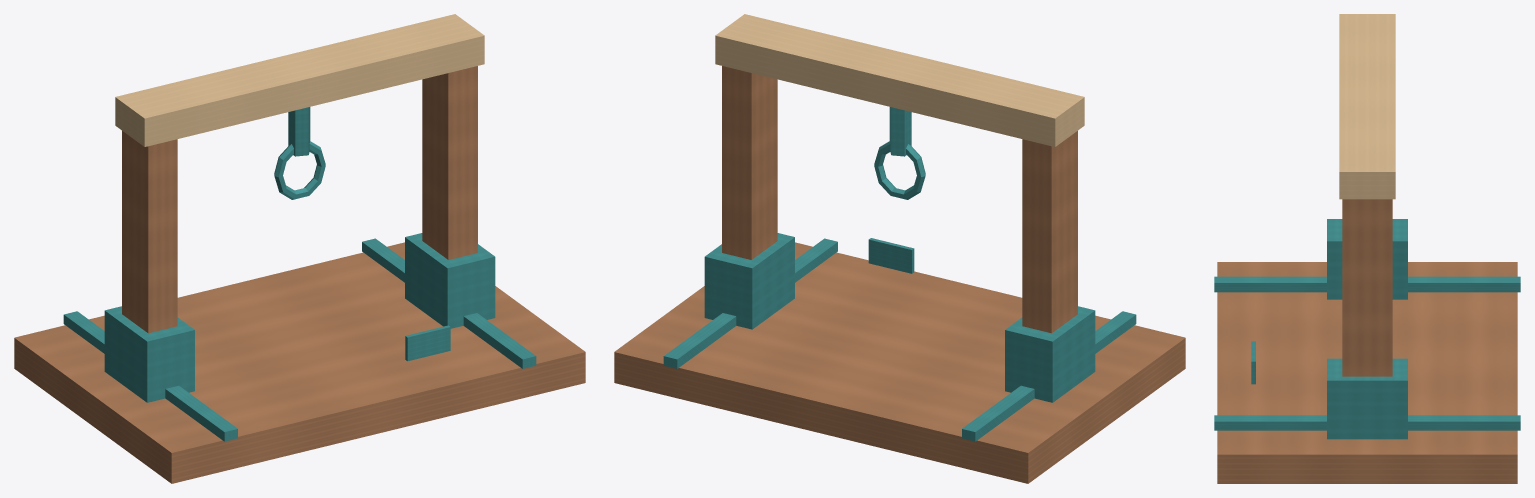
Rendered from atlas100-s096-a02.lod1.glb.
3 renders of one model, left to right at view 1: azimuth 30°, elevation 25°; view 2: azimuth 150°, elevation 25°; view 3: azimuth 270°, elevation 25°, orthographic. The views are drawn at different scales.
Visible parts, largest first — view 1: atlas100-s096-a02:part-000, atlas100-s096-a02:part-007, atlas100-s096-a02:part-003, atlas100-s096-a02:part-005, atlas100-s096-a02:part-004, atlas100-s096-a02:part-006, atlas100-s096-a02:part-002, atlas100-s096-a02:part-001, atlas100-s096-a02:part-009, atlas100-s096-a02:part-010, atlas100-s096-a02:part-008; view 2: atlas100-s096-a02:part-000, atlas100-s096-a02:part-007, atlas100-s096-a02:part-003, atlas100-s096-a02:part-005, atlas100-s096-a02:part-004, atlas100-s096-a02:part-006, atlas100-s096-a02:part-002, atlas100-s096-a02:part-001, atlas100-s096-a02:part-010, atlas100-s096-a02:part-009, atlas100-s096-a02:part-008; view 3: atlas100-s096-a02:part-000, atlas100-s096-a02:part-007, atlas100-s096-a02:part-005, atlas100-s096-a02:part-006, atlas100-s096-a02:part-001, atlas100-s096-a02:part-002, atlas100-s096-a02:part-004.
Boxes of the visible parts, x1,y1,x2,y2 form: atlas100-s096-a02:part-000: [14, 242, 585, 483]; atlas100-s096-a02:part-007: [115, 14, 484, 146]; atlas100-s096-a02:part-003: [122, 131, 177, 333]; atlas100-s096-a02:part-005: [422, 66, 477, 259]; atlas100-s096-a02:part-004: [104, 306, 194, 402]; atlas100-s096-a02:part-006: [405, 233, 495, 328]; atlas100-s096-a02:part-002: [362, 238, 536, 368]; atlas100-s096-a02:part-001: [63, 311, 237, 441]; atlas100-s096-a02:part-009: [274, 141, 325, 199]; atlas100-s096-a02:part-010: [405, 325, 450, 361]; atlas100-s096-a02:part-008: [288, 107, 310, 156]; atlas100-s096-a02:part-000: [614, 242, 1185, 483]; atlas100-s096-a02:part-007: [715, 14, 1084, 146]; atlas100-s096-a02:part-003: [1022, 131, 1077, 333]; atlas100-s096-a02:part-005: [722, 66, 777, 259]; atlas100-s096-a02:part-004: [1005, 306, 1095, 402]; atlas100-s096-a02:part-006: [704, 233, 794, 329]; atlas100-s096-a02:part-002: [663, 238, 837, 368]; atlas100-s096-a02:part-001: [962, 311, 1136, 441]; atlas100-s096-a02:part-010: [868, 238, 914, 273]; atlas100-s096-a02:part-009: [874, 141, 925, 199]; atlas100-s096-a02:part-008: [889, 107, 911, 156]; atlas100-s096-a02:part-000: [1217, 262, 1517, 483]; atlas100-s096-a02:part-007: [1339, 14, 1395, 199]; atlas100-s096-a02:part-005: [1342, 199, 1392, 376]; atlas100-s096-a02:part-006: [1327, 358, 1407, 439]; atlas100-s096-a02:part-001: [1214, 276, 1520, 292]; atlas100-s096-a02:part-002: [1214, 415, 1520, 430]; atlas100-s096-a02:part-004: [1327, 219, 1407, 299].
Size of the model in its own units: 3.64 by 2.6 by 2.45.
3 materials, 3 textured.
